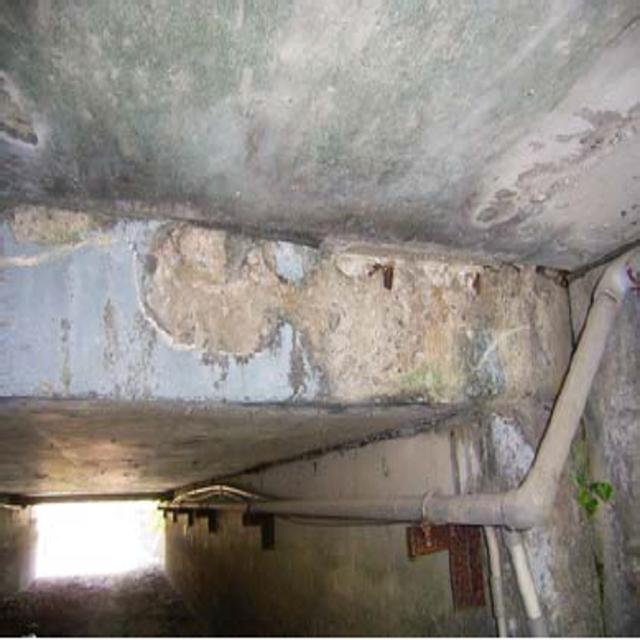spalling: (148, 217, 572, 397)
